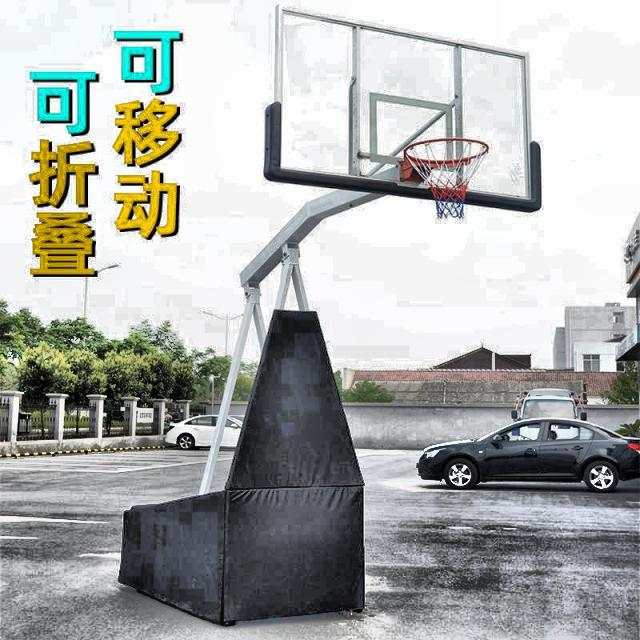rim: (405, 137, 489, 221)
